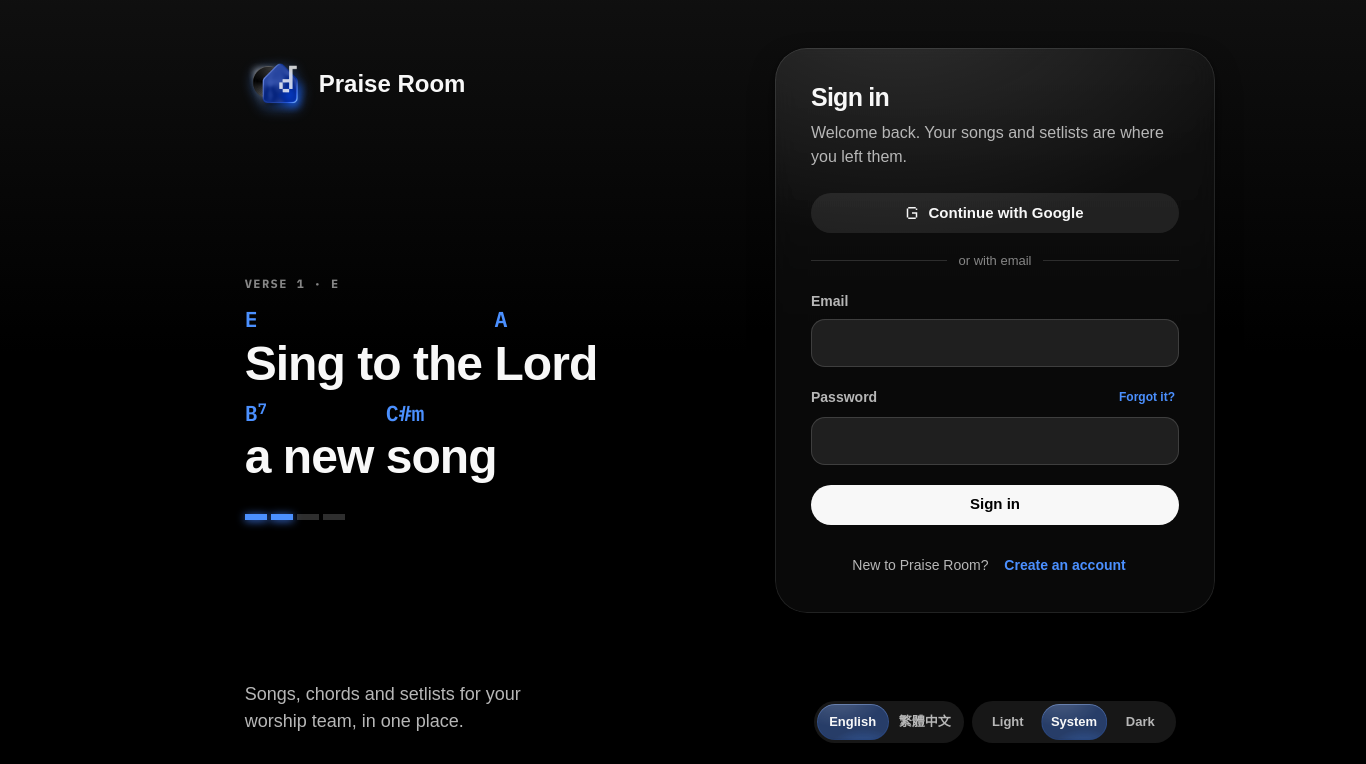
Test: SignInPage › shows a translated message for wrong credentials, not the server text
Type "dummy@example.com" into the field labelled "Email" at (1000, 342), box [825,318,1175,366]
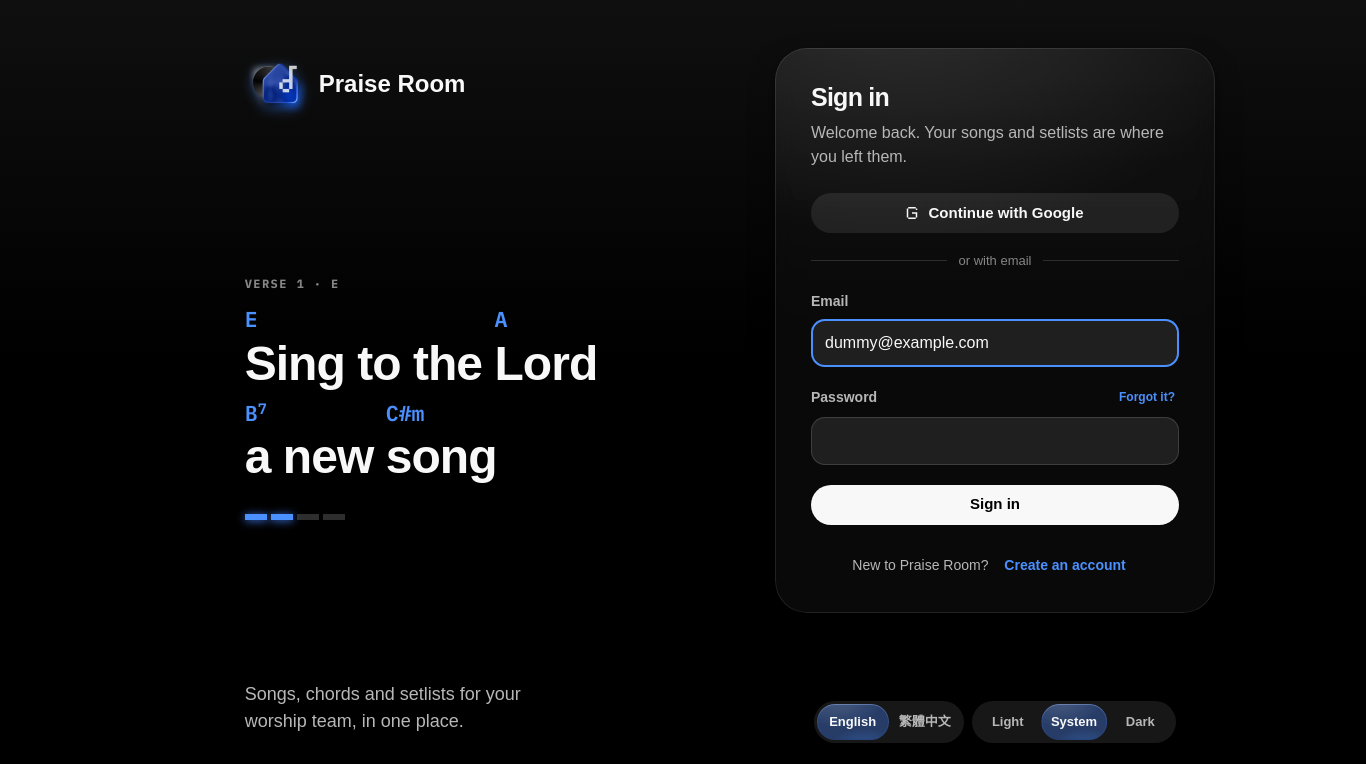
Type "not-the-password" into the password field labelled "Password" at (982, 440), box [825,416,1139,464]
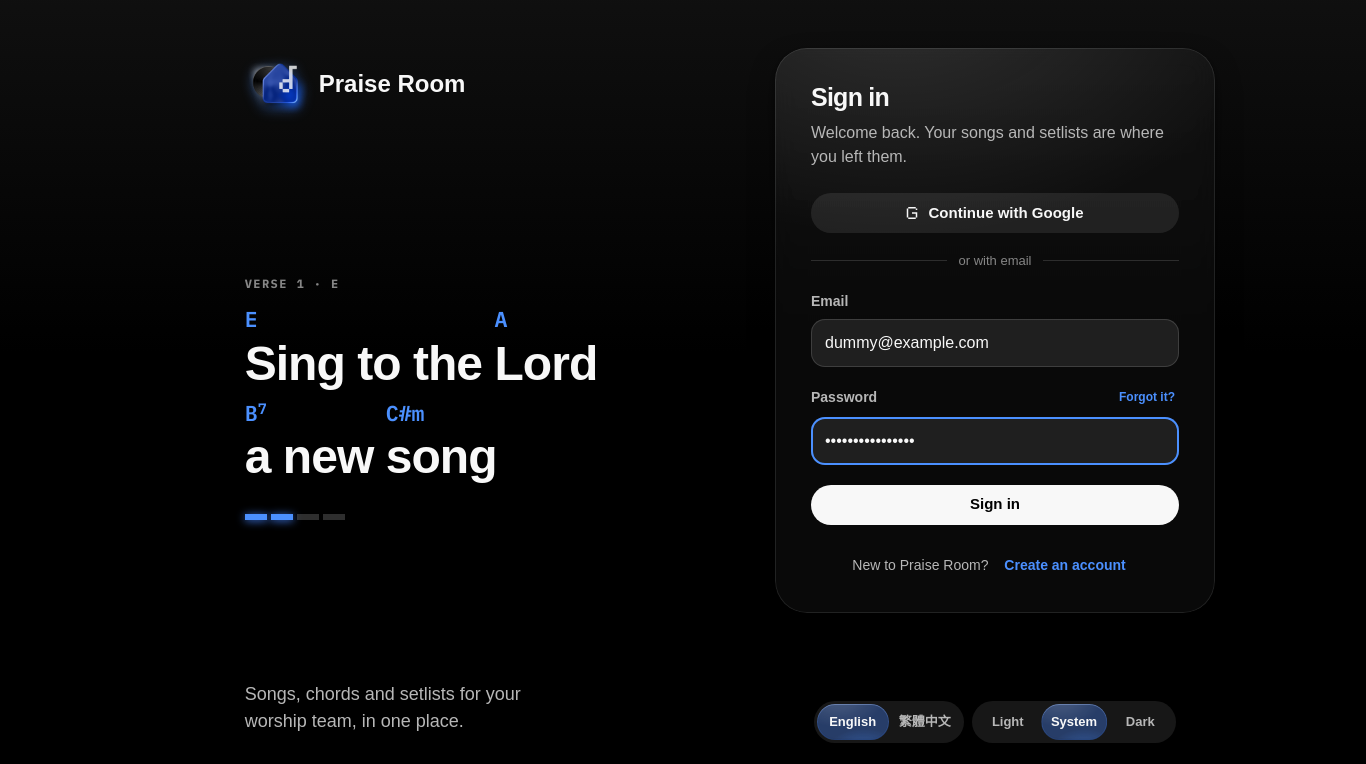
Click the button "Sign in" at (995, 504), box [811,484,1179,524]
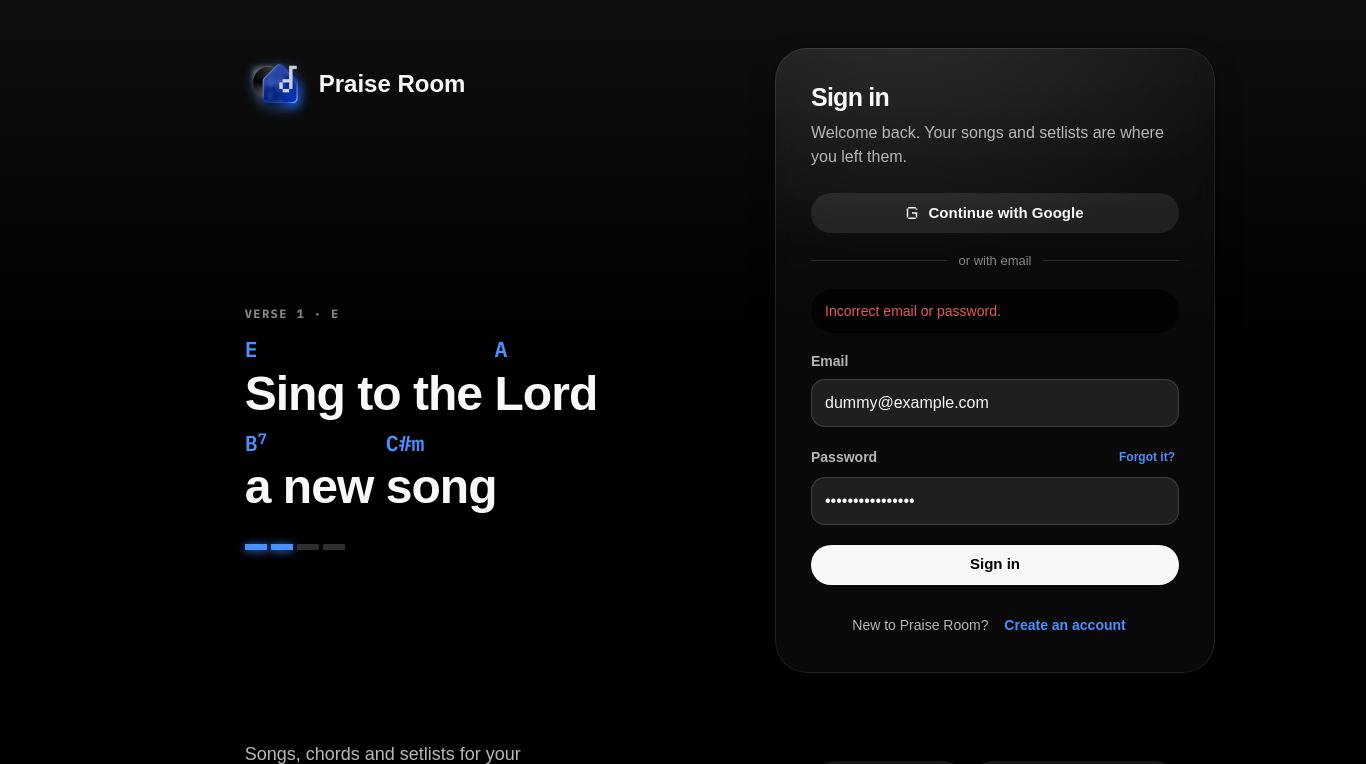
Now the text "Incorrect email or password." is shown, box [825,302,1001,318]
